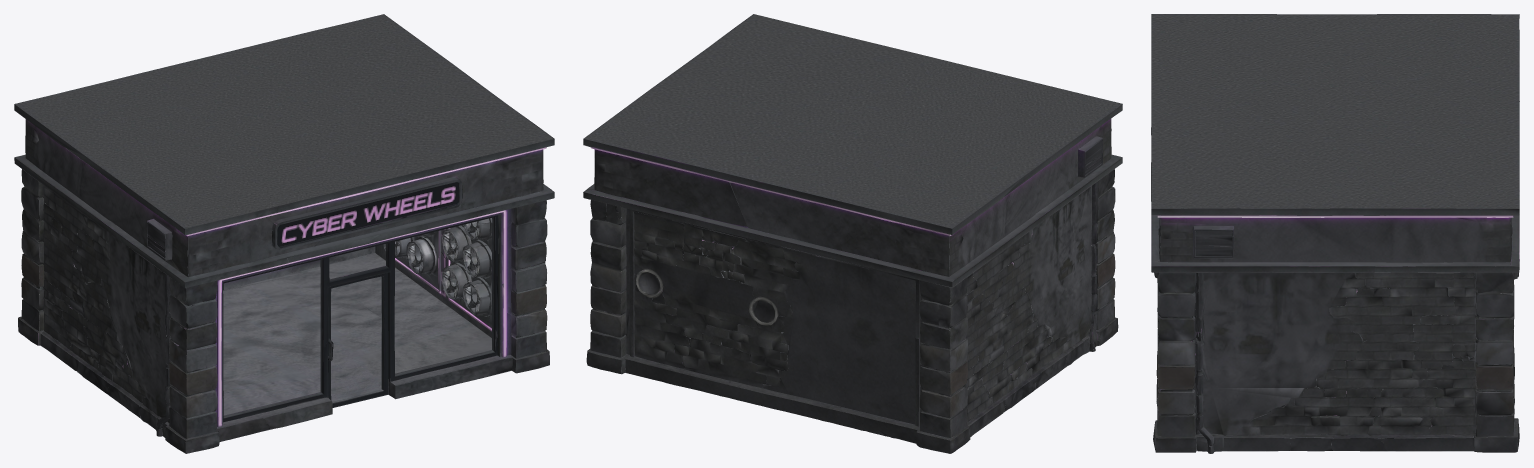
File: cyber-wheels-shop.glb
3 views of the same model, side by side, from view 1: azimuth 30°, elevation 25°; view 2: azimuth 150°, elevation 25°; view 3: azimuth 270°, elevation 25° (orthographic). The views are drawn at different scales.
Visible parts, largest first — view 1: MeshyFit; view 2: MeshyFit; view 3: MeshyFit.
Boxes of the visible parts, bbox=[...] form: MeshyFit: bbox=[14, 14, 554, 453]; MeshyFit: bbox=[583, 14, 1122, 453]; MeshyFit: bbox=[1151, 14, 1519, 453].
Bounding box in the file's own units: 11.91 × 7 × 9.52.
1 material, 1 textured.
